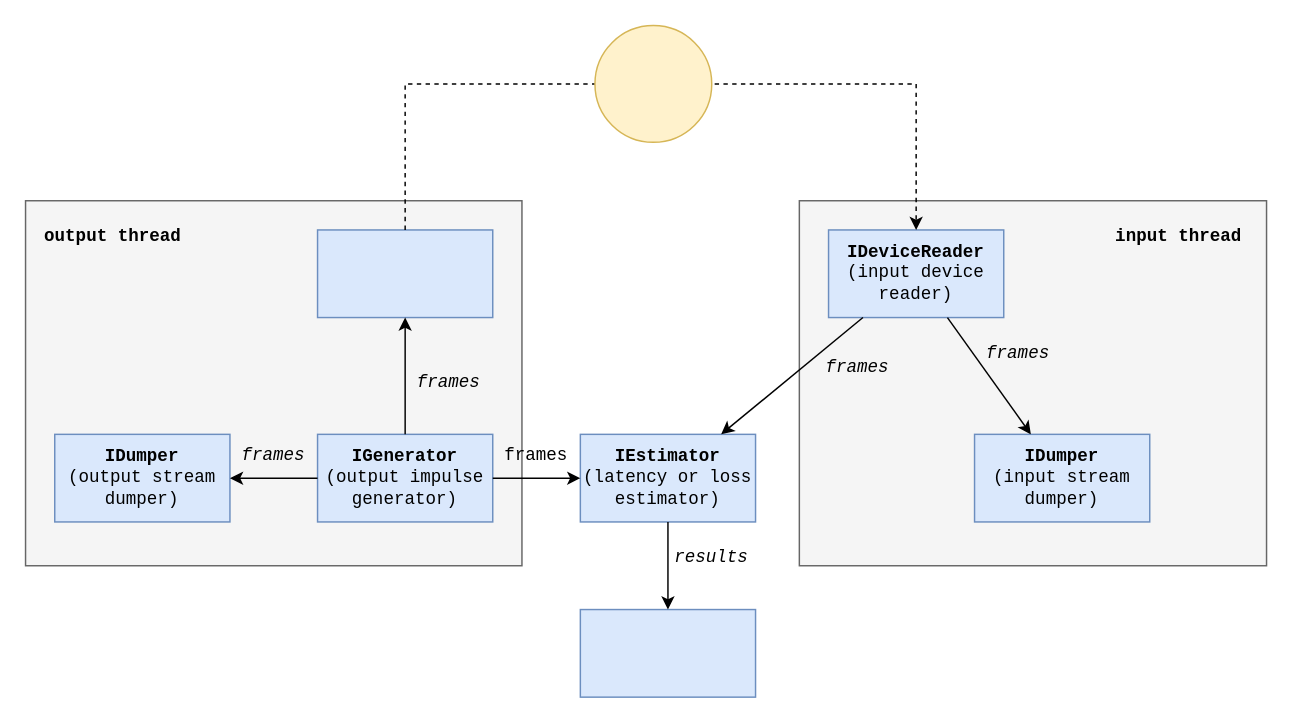
Some shapes in this 1292 by 723 pixel diagram are drawn without their labels. Here are the shapes that lost their labels. From the top down, the centre of each, then its label:
At point 652,83: "loopback".
At point 404,273: "IDeviceWriter (output device writer)".
At point 667,652: "IReporter (results reporter)".
